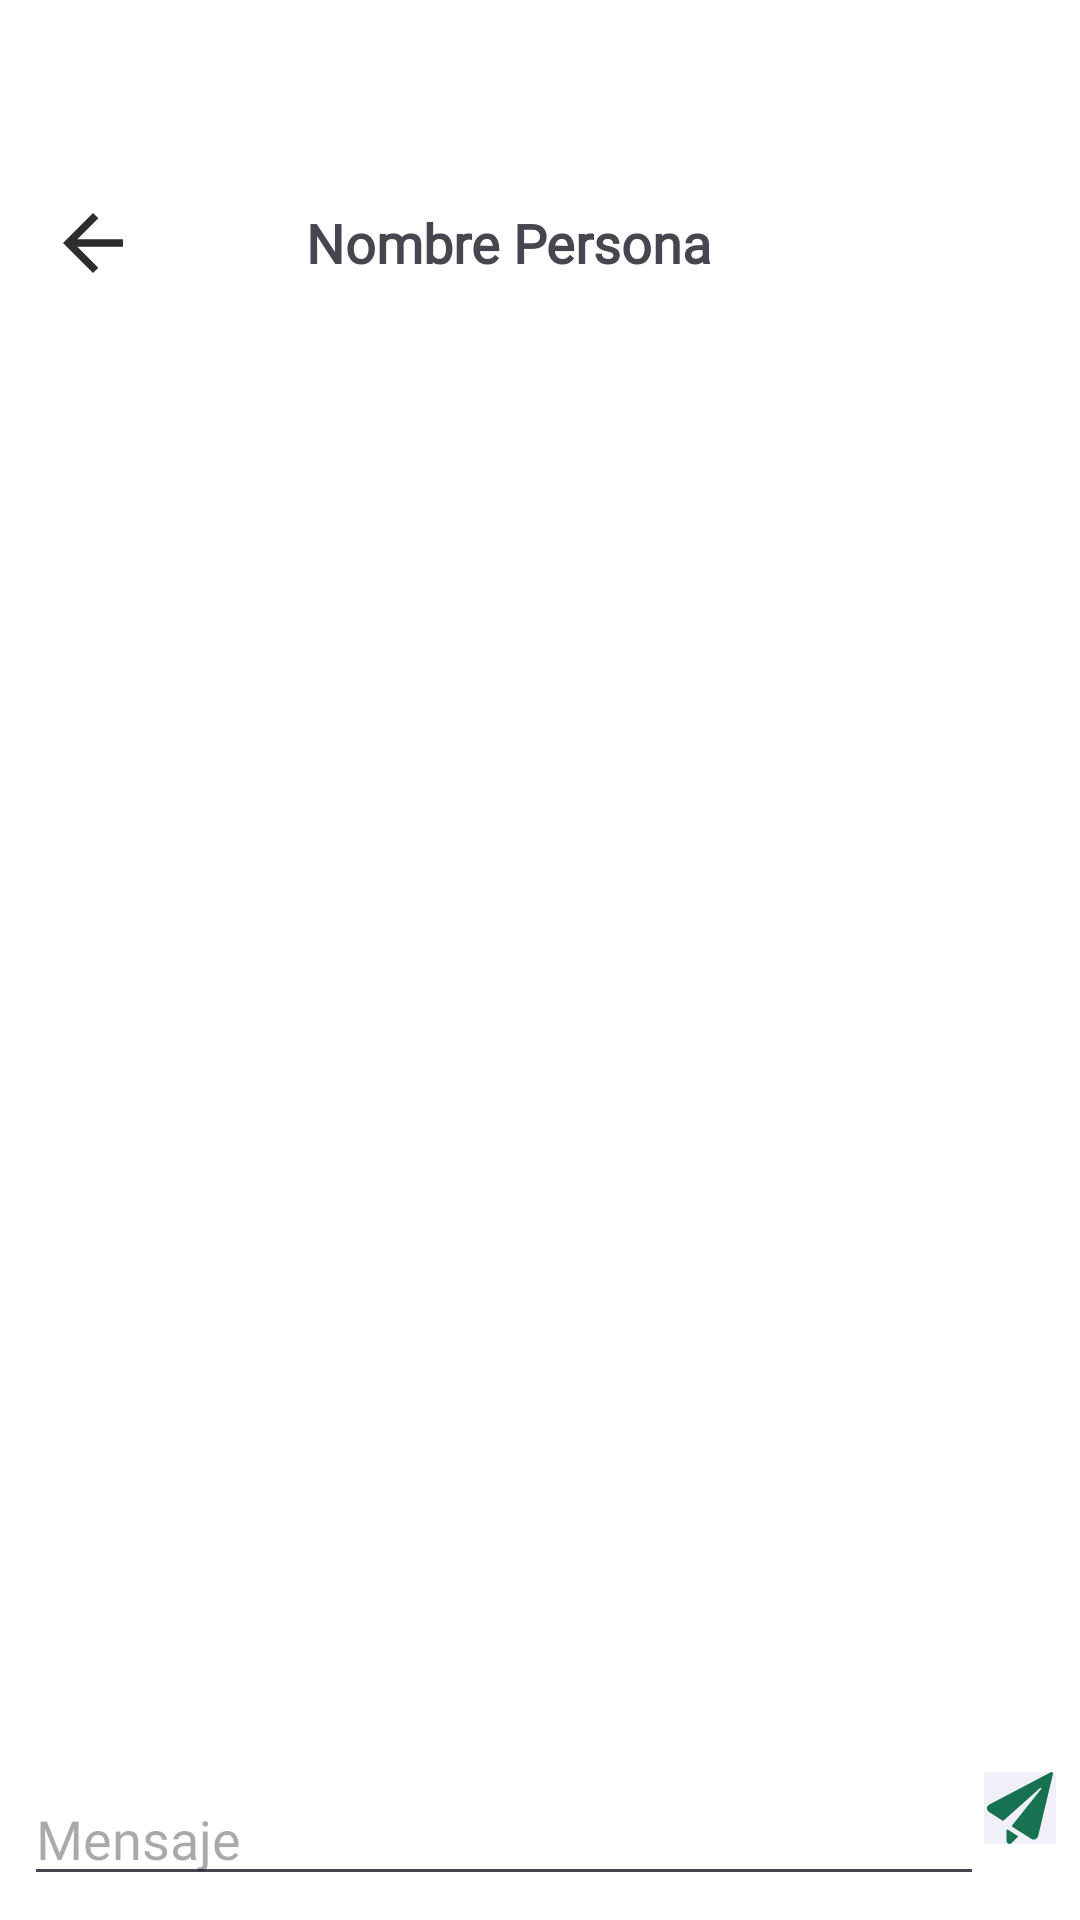

Where to tap for icons on this 1080 × 1920 app screen, as (x=x, y=y):
Back: (x=93, y=243)
send: (x=1020, y=1808)
